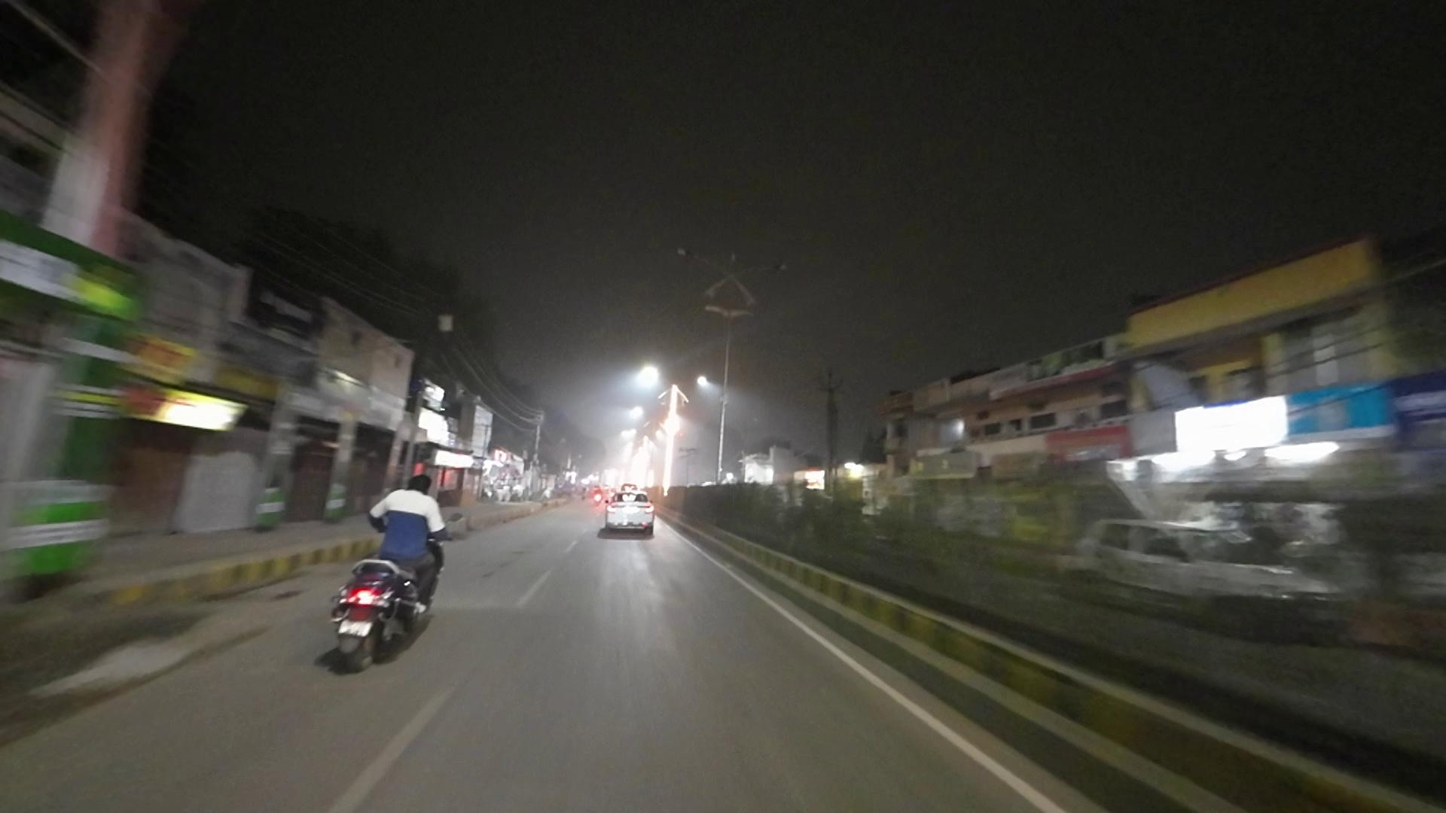streetlight: (675, 242, 728, 275), (740, 259, 793, 282)
